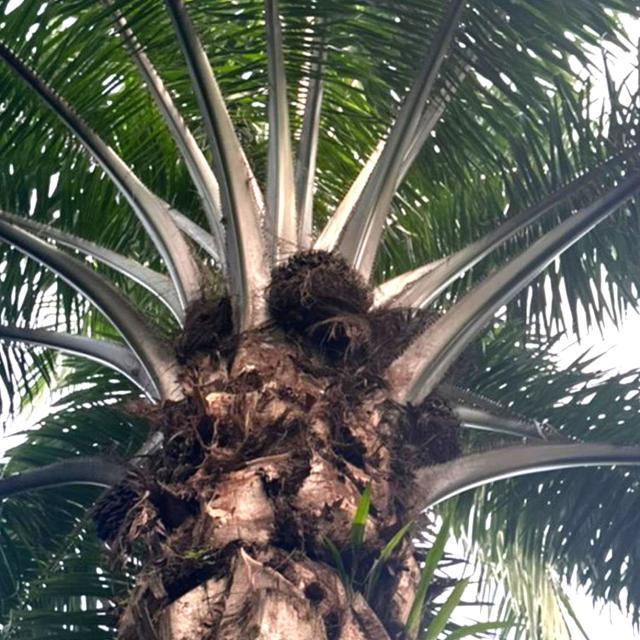unripe: (262, 245, 376, 331)
